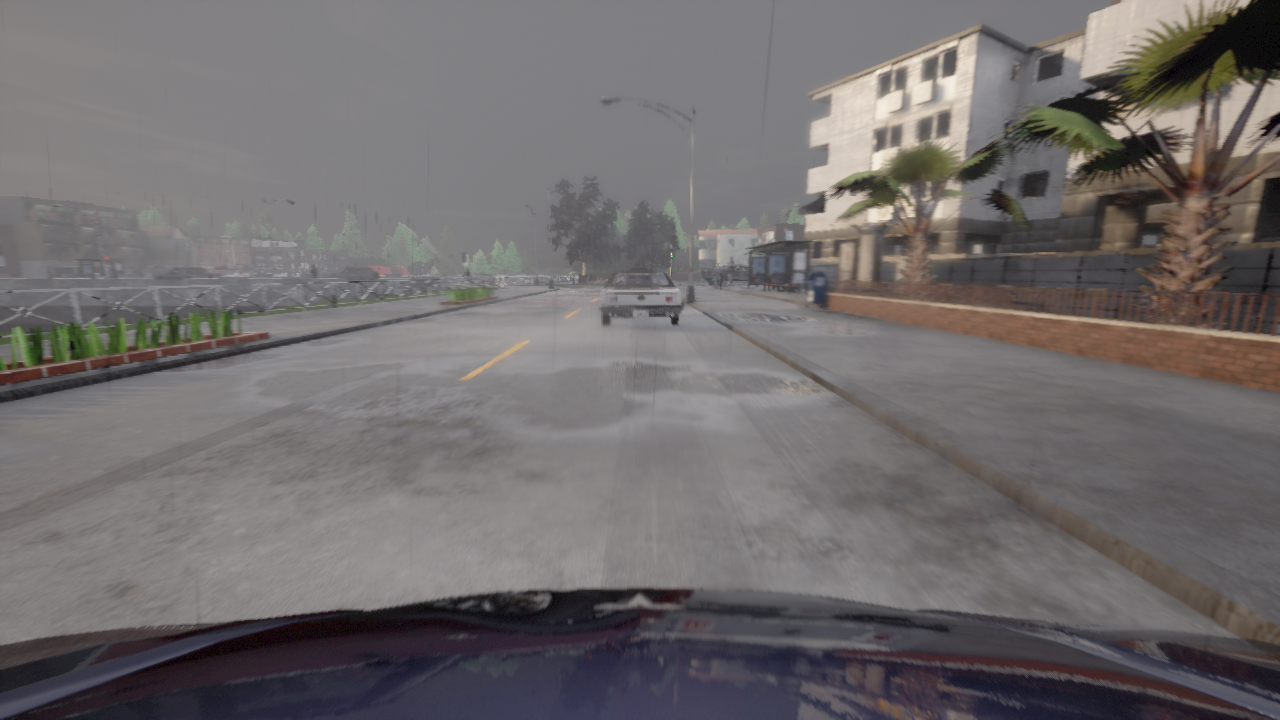cyclist: (0, 588, 1279, 719), (598, 270, 683, 325), (700, 264, 762, 285), (155, 267, 211, 277), (336, 267, 378, 277), (630, 268, 645, 269)
pedestrian: (462, 266, 473, 285), (728, 265, 733, 285), (311, 265, 317, 277), (714, 273, 719, 287)
